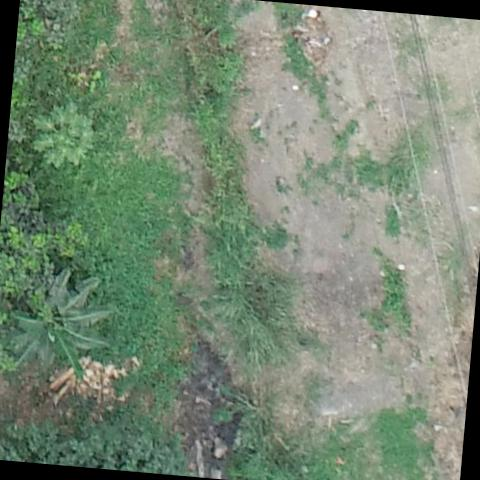Banana-plant: (2, 266, 118, 384)
